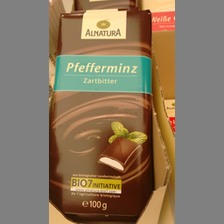chocolate: (49, 12, 155, 217)
